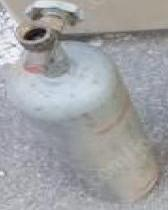cylinder: (1, 1, 168, 210)
